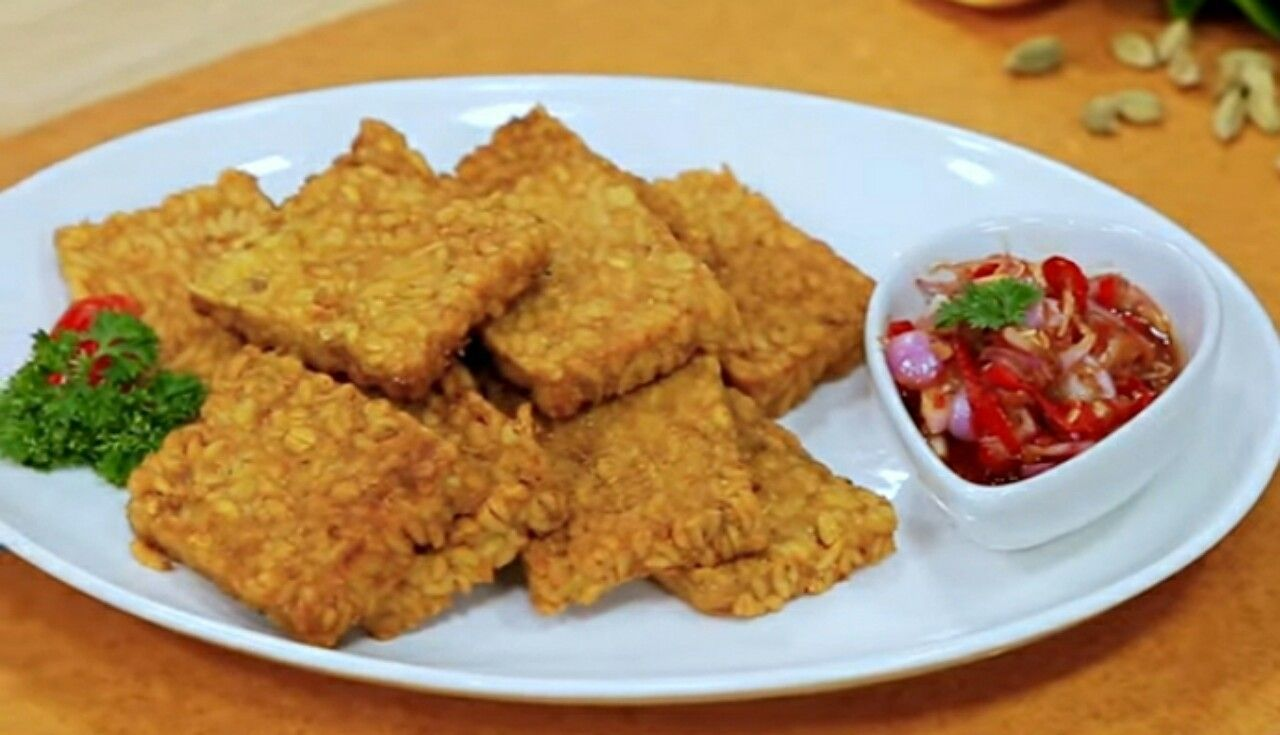Tempe: (123, 323, 416, 589), (465, 369, 739, 601), (693, 159, 884, 397), (458, 139, 686, 333), (251, 149, 496, 327)
